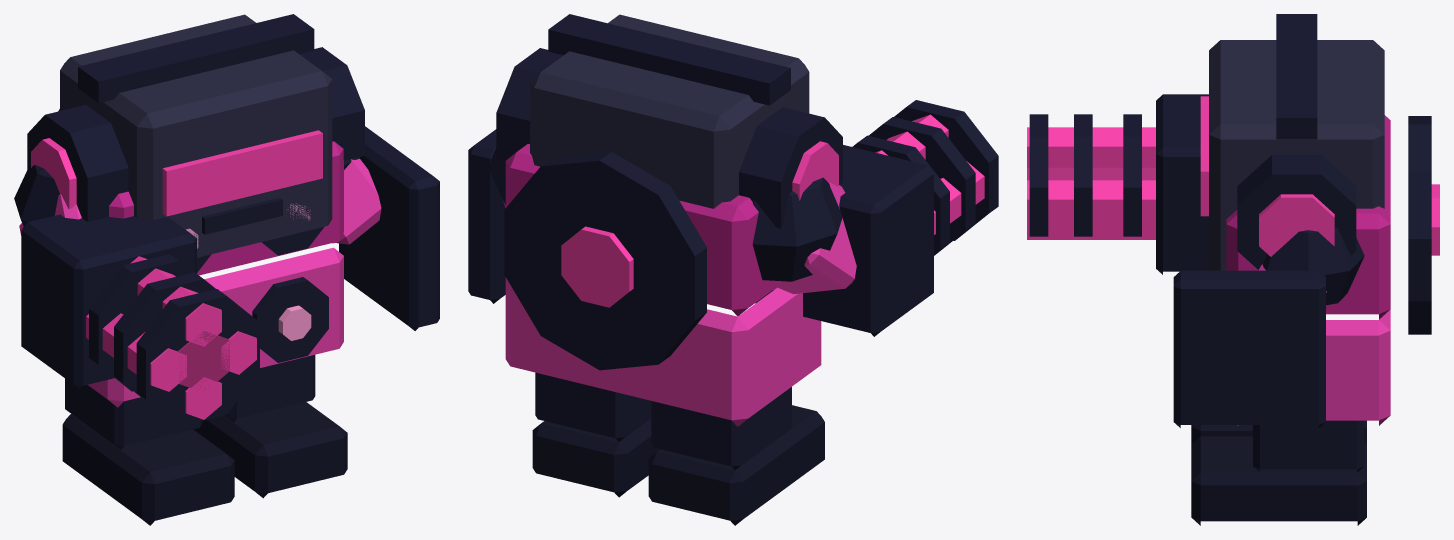
Rendered from r8_mini_laser_dj.glb.
3 renders of one model, left to right at view 1: azimuth 30°, elevation 25°; view 2: azimuth 150°, elevation 25°; view 3: azimuth 270°, elevation 25°, orthographic. The views are drawn at different scales.
Visible parts, largest first — view 1: r8_mini_laser_dj_mesh; view 2: r8_mini_laser_dj_mesh; view 3: r8_mini_laser_dj_mesh.
Part boxes in pixels (x1,y1,x2,y2): r8_mini_laser_dj_mesh: (14,14,439,525); r8_mini_laser_dj_mesh: (468,14,998,525); r8_mini_laser_dj_mesh: (1027,14,1439,525).
Bounding box in the file's own units: 3.56 × 3.8 × 3.43.
1 material, 1 textured.
